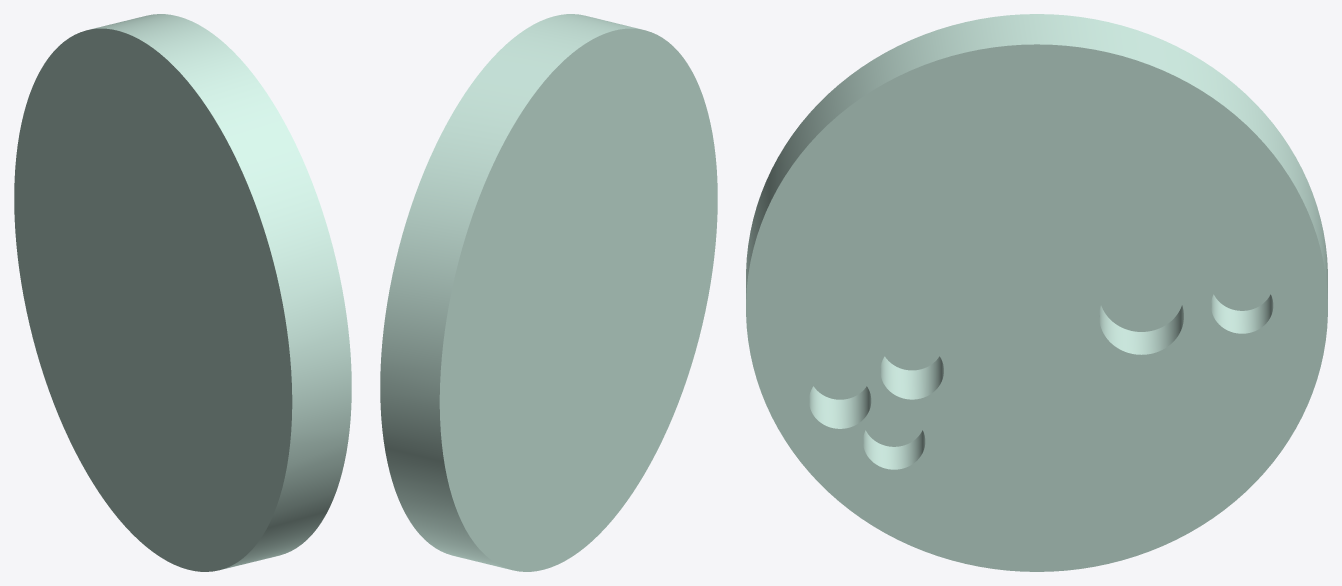
3 views of the same model, side by side, from view 1: azimuth 30°, elevation 25°; view 2: azimuth 150°, elevation 25°; view 3: azimuth 270°, elevation 25° (orthographic). The views are drawn at different scales.
Parts seen in each view (by area): view 1: Renderer Node; view 2: Renderer Node; view 3: Renderer Node.
Part boxes in pixels (box(x1,y1,x2,y2)): Renderer Node: box(14, 14, 351, 571); Renderer Node: box(380, 14, 717, 571); Renderer Node: box(746, 14, 1327, 571).
Size of the model in its own units: 0.1875 by 1.52 by 1.52.
